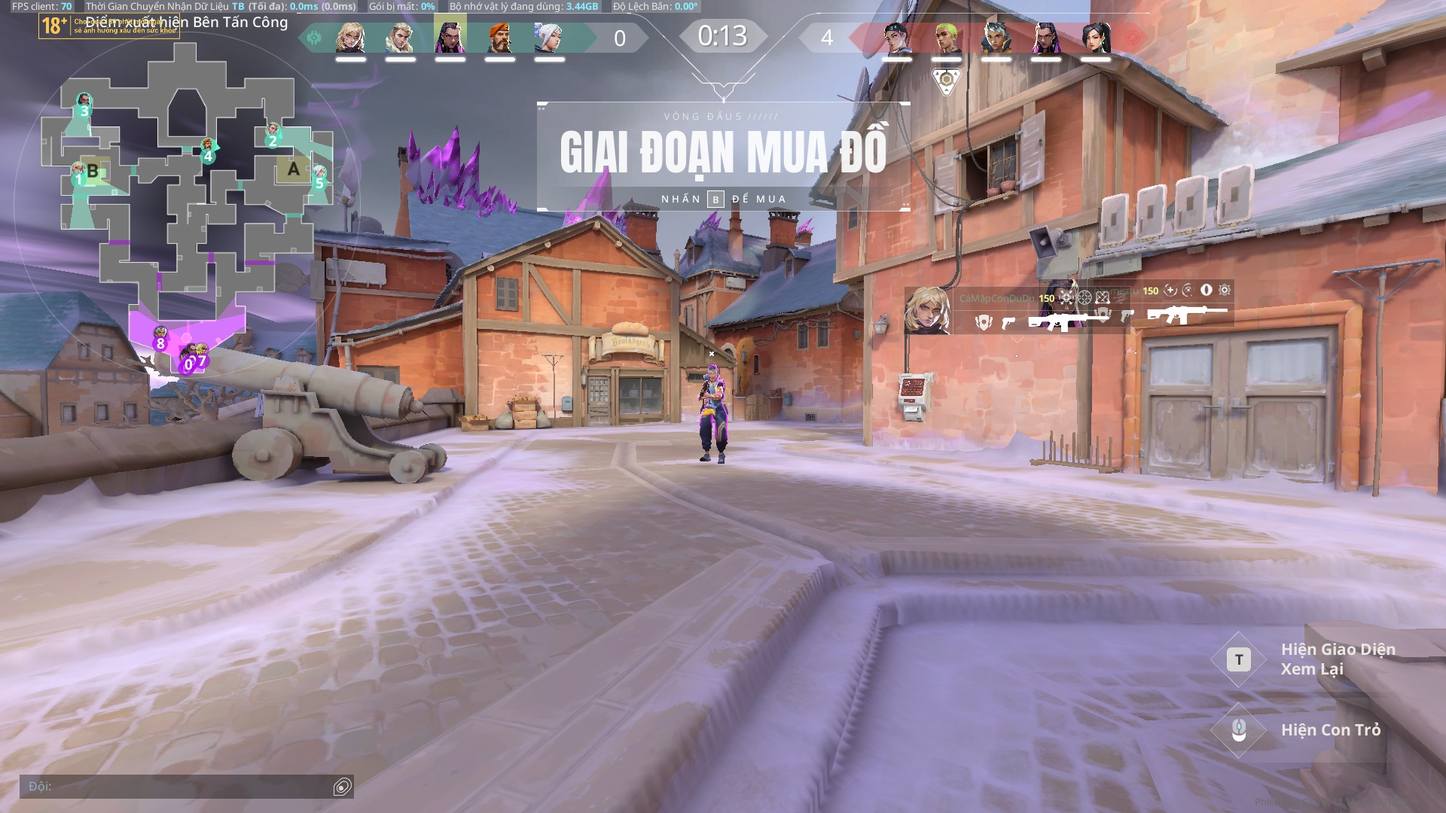body: (703, 376, 725, 403)
head: (707, 364, 719, 379)
